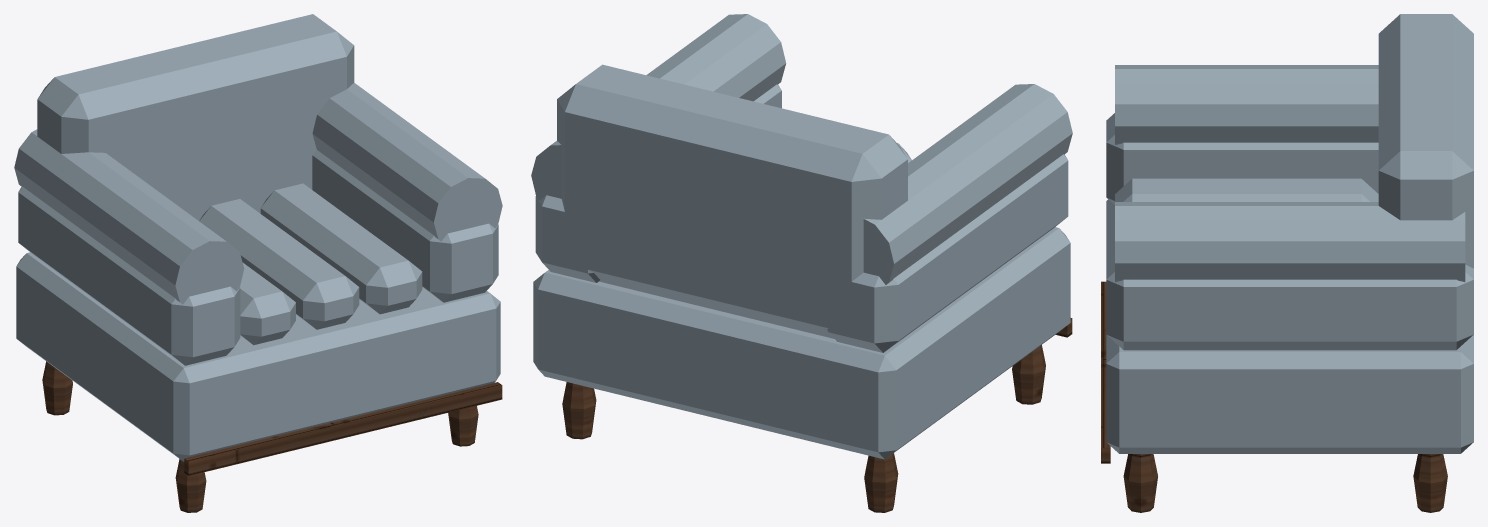
The model's file is armchair.glb.
The picture shows the model from 3 angles, left to right: view 1: azimuth 30°, elevation 25°; view 2: azimuth 150°, elevation 25°; view 3: azimuth 270°, elevation 25°; orthographic projection. The views are drawn at different scales.
Visible parts, largest first — view 1: armchair_fabric, armchair_dkwood; view 2: armchair_fabric, armchair_dkwood; view 3: armchair_fabric, armchair_dkwood.
Boxes of the visible parts, x1,y1,x2,y2 form: armchair_fabric: (14,14,502,461); armchair_dkwood: (42,361,502,512); armchair_fabric: (531,14,1072,459); armchair_dkwood: (562,318,1072,512); armchair_fabric: (1106,14,1473,453); armchair_dkwood: (1101,281,1447,512).
Bounding box in the file's own units: 0.95 × 0.9 × 0.862.
Materials: 2 (1 with a texture image).
